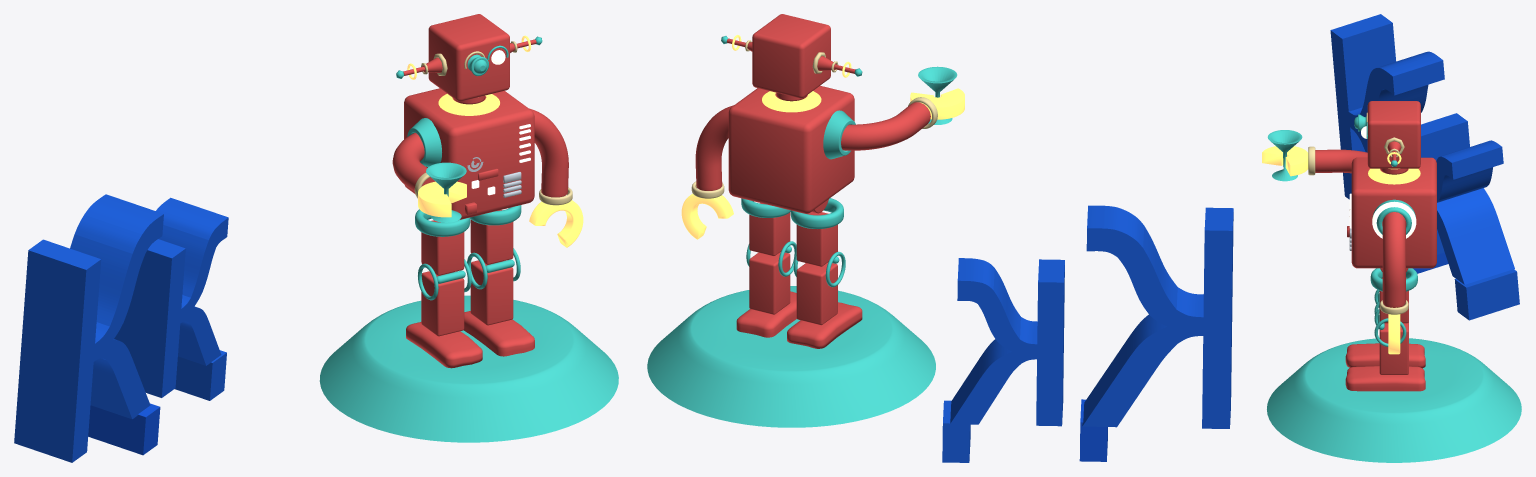
3 renders of one model, left to right at view 1: azimuth 30°, elevation 25°; view 2: azimuth 150°, elevation 25°; view 3: azimuth 270°, elevation 25°, orthographic. The views are drawn at different scales.
Parts seen in each view (by area): view 1: Mesh_0.002, Stand, Body, Head, Куб, Shin_2, Shin, Arm, Foot_2, Foot, Куб.001, Leg (+10 smaller); view 2: Mesh_0.002, Stand, Body, Head, Arm_2, Shin, Shin_2, Arm, Foot_2, Leg_2, Leg, Foot (+9 smaller); view 3: Stand, Mesh_0.002, Body, Head, Куб.001, Arm, Foot, Foot_2, Shin, Arm_2, Hand_2, Lathe (+7 smaller).
Part boxes in pixels (bbox=[...]): Mesh_0.002: bbox=[14, 194, 228, 462]; Stand: bbox=[319, 295, 618, 442]; Body: bbox=[404, 88, 534, 219]; Head: bbox=[428, 14, 509, 101]; Куб: bbox=[88, 403, 160, 455]; Shin_2: bbox=[421, 271, 464, 336]; Shin: bbox=[470, 260, 513, 325]; Arm: bbox=[529, 108, 568, 197]; Foot_2: bbox=[406, 322, 482, 368]; Foot: bbox=[463, 311, 534, 356]; Куб.001: bbox=[175, 350, 226, 400]; Leg: bbox=[470, 210, 513, 264]; Mesh_0.002: bbox=[950, 205, 1233, 428]; Stand: bbox=[647, 286, 935, 427]; Body: bbox=[728, 85, 854, 213]; Head: bbox=[752, 14, 830, 98]; Arm_2: bbox=[841, 102, 930, 150]; Shin: bbox=[749, 252, 790, 314]; Shin_2: bbox=[796, 262, 837, 325]; Arm: bbox=[695, 105, 733, 190]; Foot_2: bbox=[787, 302, 862, 348]; Leg_2: bbox=[796, 212, 837, 266]; Leg: bbox=[749, 203, 790, 255]; Foot: bbox=[736, 291, 796, 337]; Stand: bbox=[1267, 338, 1521, 462]; Mesh_0.002: bbox=[1330, 14, 1514, 284]; Body: bbox=[1351, 157, 1436, 268]; Head: bbox=[1367, 101, 1420, 168]; Куб.001: bbox=[1454, 269, 1519, 320]; Arm: bbox=[1382, 212, 1405, 307]; Foot: bbox=[1345, 366, 1425, 391]; Foot_2: bbox=[1345, 343, 1425, 368]; Shin: bbox=[1379, 322, 1408, 374]; Arm_2: bbox=[1315, 149, 1367, 173]; Hand_2: bbox=[1262, 146, 1308, 176]; Lathe: bbox=[1267, 130, 1302, 181].
Bounding box in the file's own units: 45.21 × 25.87 × 20.42.
